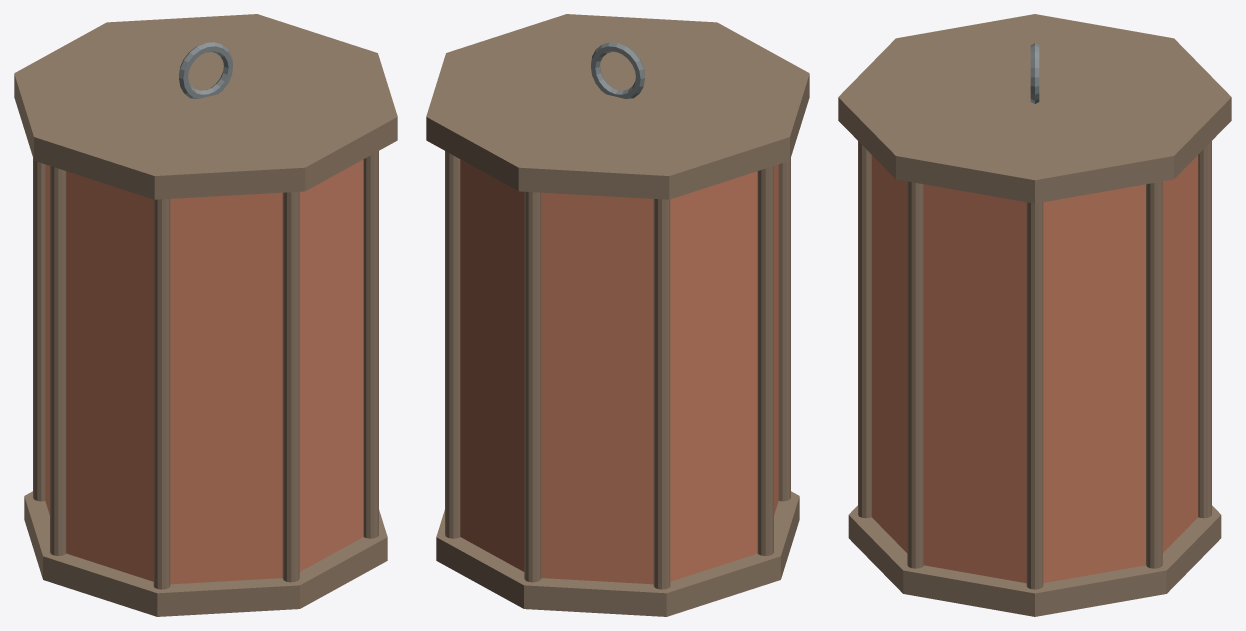
Rendered from PR-LANTERN.glb.
The picture shows the model from 3 angles, left to right: view 1: azimuth 30°, elevation 25°; view 2: azimuth 150°, elevation 25°; view 3: azimuth 270°, elevation 25°; orthographic projection.
Visible parts, largest first — view 1: paper_shade, top, rib (×5), base, hanging_ring; view 2: paper_shade, top, rib (×5), base, hanging_ring; view 3: paper_shade, top, rib (×5), base, hanging_ring.
Part boxes in pixels (box(x1,y1,x2,y2)): paper_shade: box(45, 159, 363, 584); top: box(14, 14, 397, 199); rib (×5): box(33, 151, 378, 589); base: box(24, 491, 387, 616); hanging_ring: box(179, 42, 232, 98); paper_shade: box(460, 159, 778, 584); top: box(426, 14, 809, 199); rib (×5): box(445, 151, 790, 589); base: box(436, 491, 799, 616); hanging_ring: box(591, 42, 644, 98); paper_shade: box(871, 155, 1198, 583); top: box(838, 14, 1231, 203); rib (×5): box(858, 141, 1211, 589); base: box(848, 505, 1221, 616); hanging_ring: box(1030, 43, 1039, 103).
Bounding box in the file's own units: 0.38 × 0.525 × 0.38.
